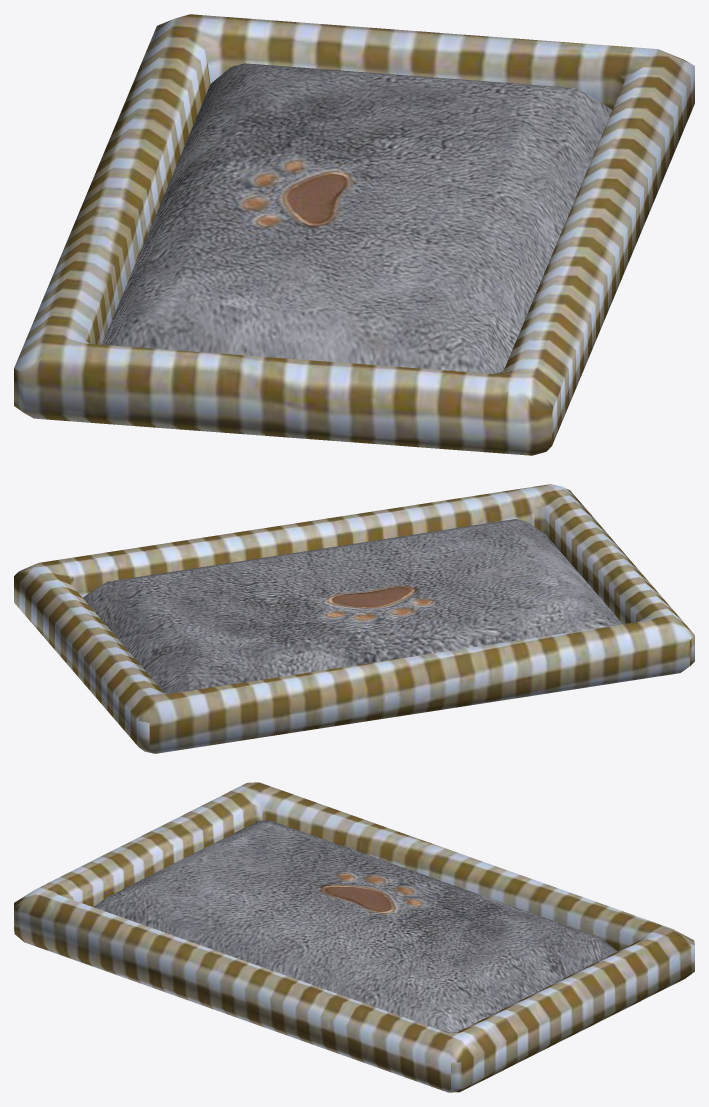
File: M_AHdianzi01.FBX
The picture shows the model from 3 angles, top to bottom: view 1: azimuth 30°, elevation 25°; view 2: azimuth 150°, elevation 25°; view 3: azimuth 270°, elevation 25°; orthographic projection. The views are drawn at different scales.
Parts seen in each view (by area): view 1: M_AHdianzi01; view 2: M_AHdianzi01; view 3: M_AHdianzi01.
Boxes of the visible parts, left/top/right/bottom form: M_AHdianzi01: left=14, top=14, right=694, bottom=455; M_AHdianzi01: left=14, top=484, right=694, bottom=753; M_AHdianzi01: left=14, top=782, right=694, bottom=1092.
Size of the model in its own units: 1.57 by 0.1313 by 1.63.
